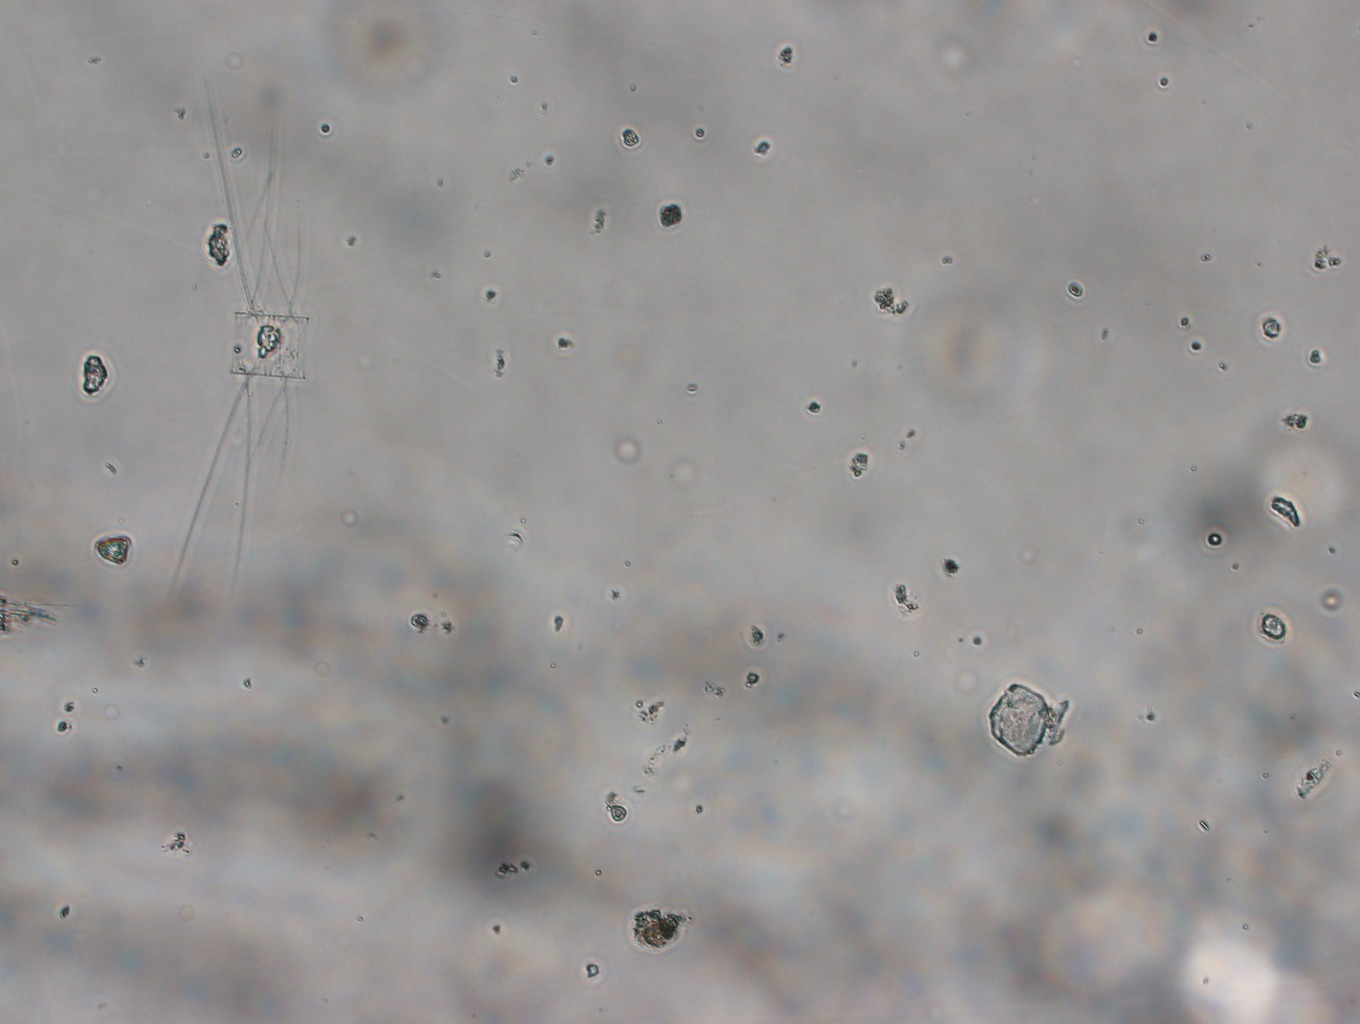chaetoceros: (155, 52, 323, 600)
